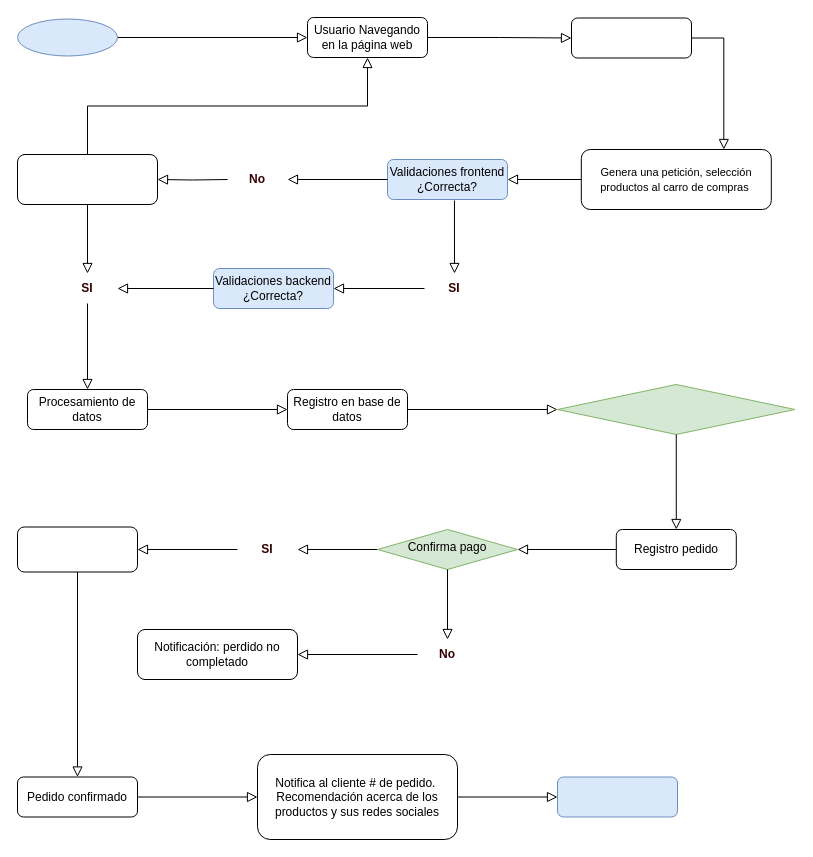
The diagram is 813 pixels wide and 857 high, and some of its shapes have lost their labels. The shapes that lost their labels are listed below. From the top down, each one's centre as x and y in pixels, then its label:
At point (67, 37): "Inicio".
At point (631, 37): "Ingresa al catalogo de productos".
At point (87, 179): "Mensaje del error, volver al inicio o formulario".
At point (675, 409): "Consulta de los datos insertados".
At point (77, 549): "Sistema actualiza el inventario".
At point (617, 796): "Fin".
